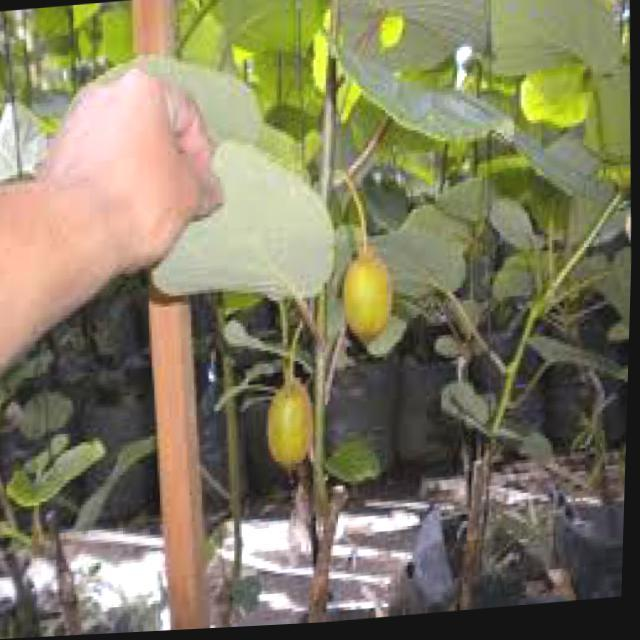kiwi: (342, 255, 394, 345), (265, 381, 317, 471)
